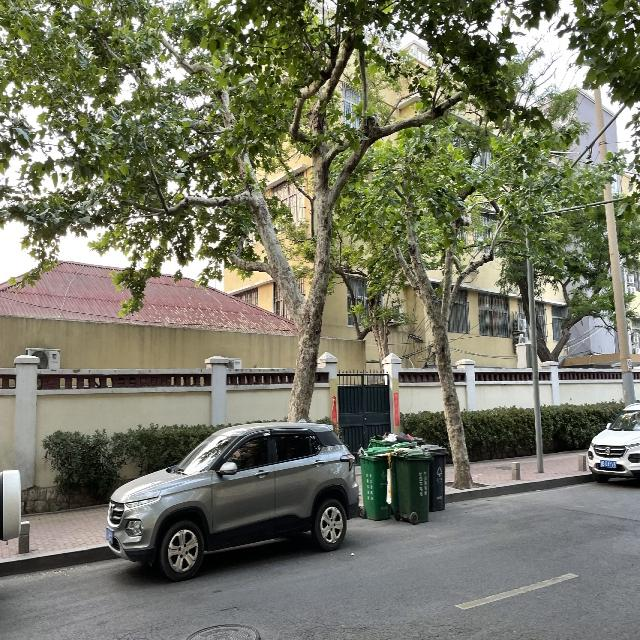garbage_bin: (392, 447, 430, 522), (418, 444, 448, 512)
overflow: (357, 447, 392, 520)
